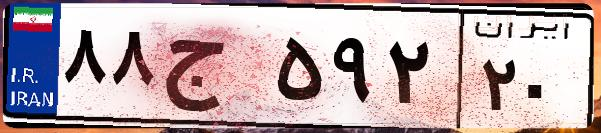0: (525, 38, 570, 115)
2: (385, 28, 445, 110), (475, 38, 525, 113)
5: (270, 28, 330, 110)
8: (57, 26, 110, 100), (110, 28, 158, 98)
9: (330, 28, 385, 110)
ج: (158, 20, 270, 120)
